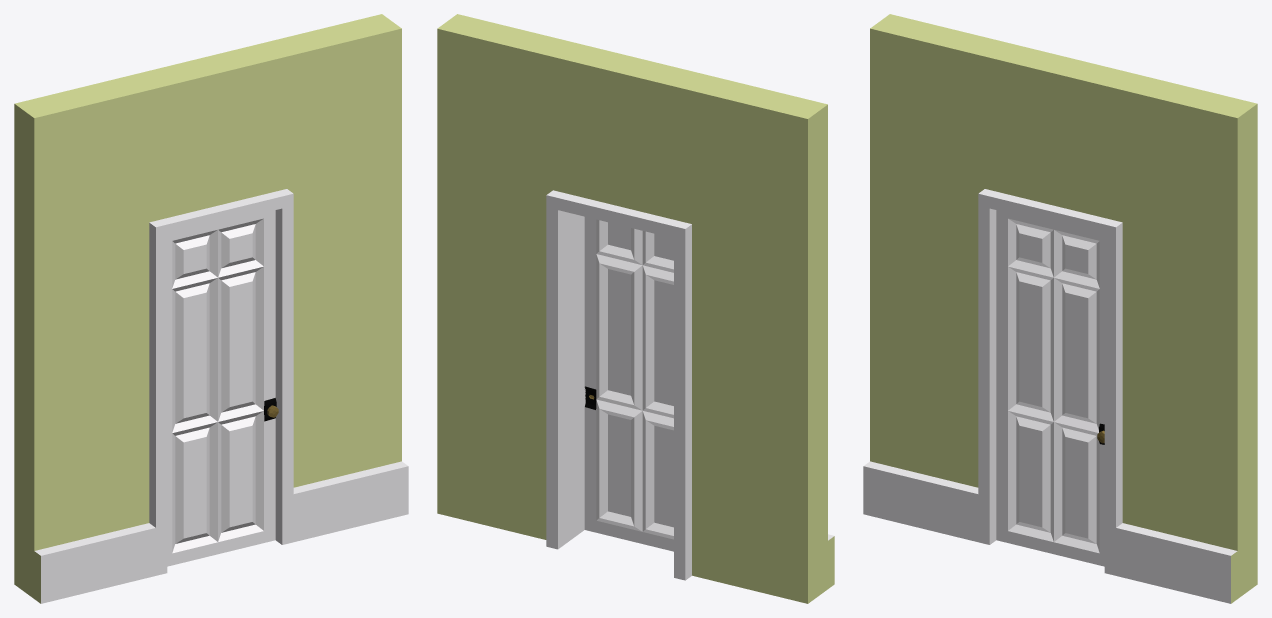
File: WallDoor.glb
The picture shows the model from 3 angles, left to right: view 1: azimuth 30°, elevation 25°; view 2: azimuth 150°, elevation 25°; view 3: azimuth 330°, elevation 25°; orthographic projection.
Visible parts, largest first — view 1: WallDoor; view 2: WallDoor; view 3: WallDoor.
Part boxes in pixels (box(x1,y1,x2,y2)): WallDoor: box(14, 14, 408, 603); WallDoor: box(437, 14, 834, 603); WallDoor: box(863, 14, 1257, 603).
Bounding box in the file's own units: 32 × 40 × 5.
